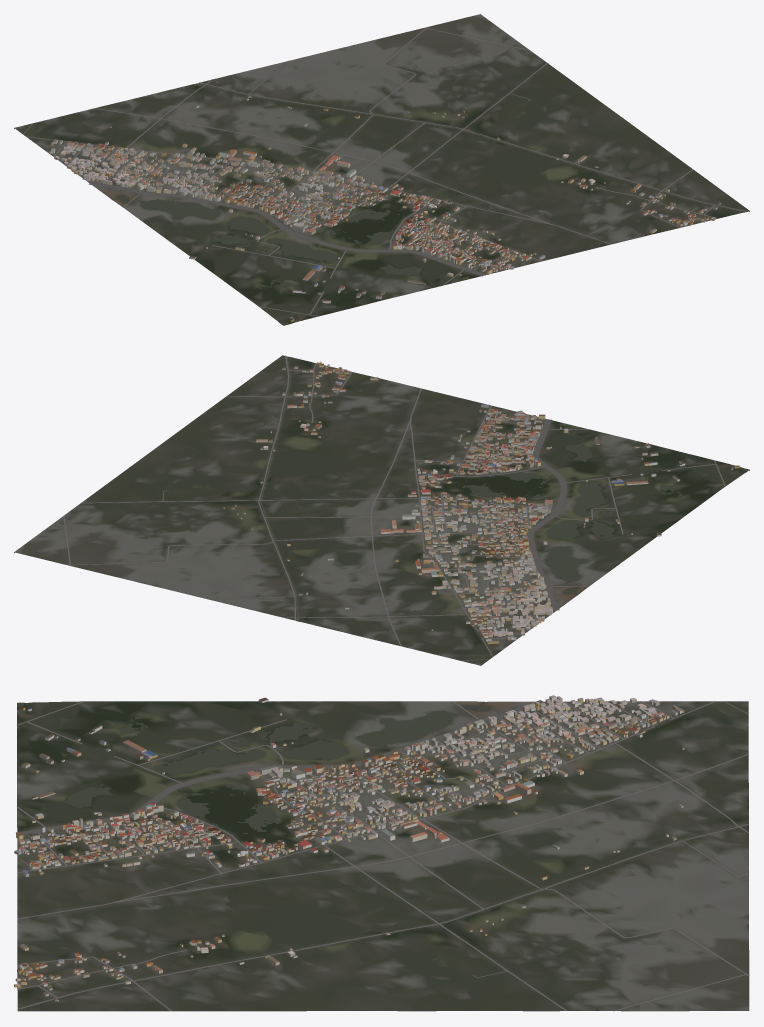
3 renders of one model, top to bottom at view 1: azimuth 30°, elevation 25°; view 2: azimuth 150°, elevation 25°; view 3: azimuth 270°, elevation 25°, orthographic. The views are drawn at different scales.
Parts seen in each view (by area): view 1: ground, buildings, roads, water; view 2: ground, buildings, roads, water; view 3: ground, buildings, roads, water.
Boxes of the visible parts, box(x1,y1,x2,y2) form: ground: box(14, 14, 749, 325); buildings: box(49, 95, 721, 322); roads: box(23, 27, 746, 316); water: box(112, 83, 745, 325); ground: box(14, 355, 749, 665); buildings: box(223, 361, 739, 644); roads: box(63, 355, 725, 661); water: box(260, 356, 748, 621); ground: box(17, 701, 749, 1011); buildings: box(14, 695, 684, 1001); roads: box(16, 700, 749, 1011); water: box(17, 701, 748, 1008).
Size of the model in its own units: 1413 by 23.99 by 1410.
